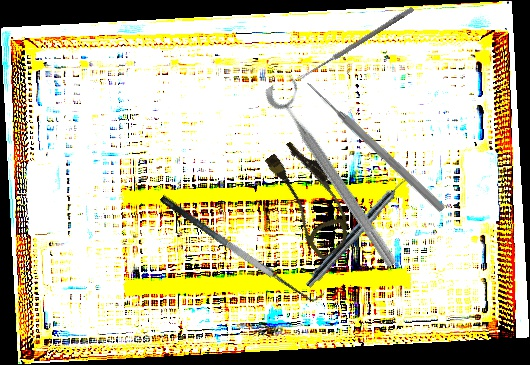Cannula: (252, 134, 369, 262)
Fixation Ring: (261, 72, 413, 272)
Handpiece: (303, 170, 415, 292)
Pusher: (302, 78, 448, 214)
Spatula Surgical: (158, 182, 326, 312)
Surgical Spoon: (296, 5, 415, 83)
